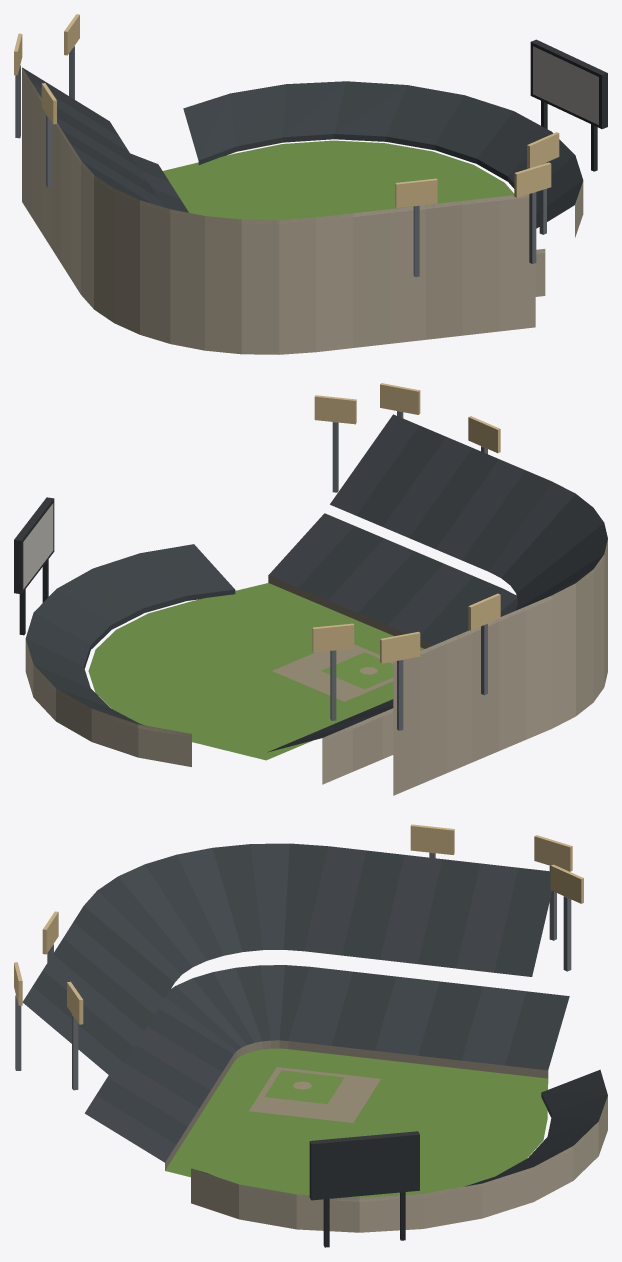
3 views of the same model, one above another, from view 1: azimuth 30°, elevation 25°; view 2: azimuth 150°, elevation 25°; view 3: azimuth 270°, elevation 25° (orthographic). The views are drawn at different scales.
Parts seen in each view (by area): view 1: bronx-ballpark-lod2; view 2: bronx-ballpark-lod2; view 3: bronx-ballpark-lod2.
Boxes of the visible parts, left/top/right/bottom form: bronx-ballpark-lod2: left=14, top=14, right=607, bottom=354; bronx-ballpark-lod2: left=14, top=383, right=607, bottom=795; bronx-ballpark-lod2: left=14, top=824, right=607, bottom=1247.
Size of the model in its own units: 261 by 76.81 by 246.
